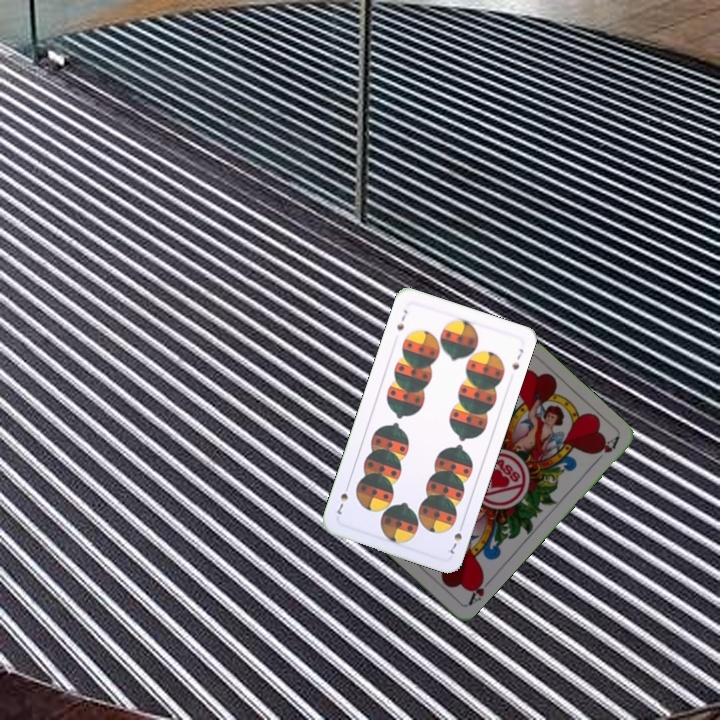HA: (464, 571, 495, 608)
S7: (443, 519, 466, 557), (392, 306, 410, 333)
